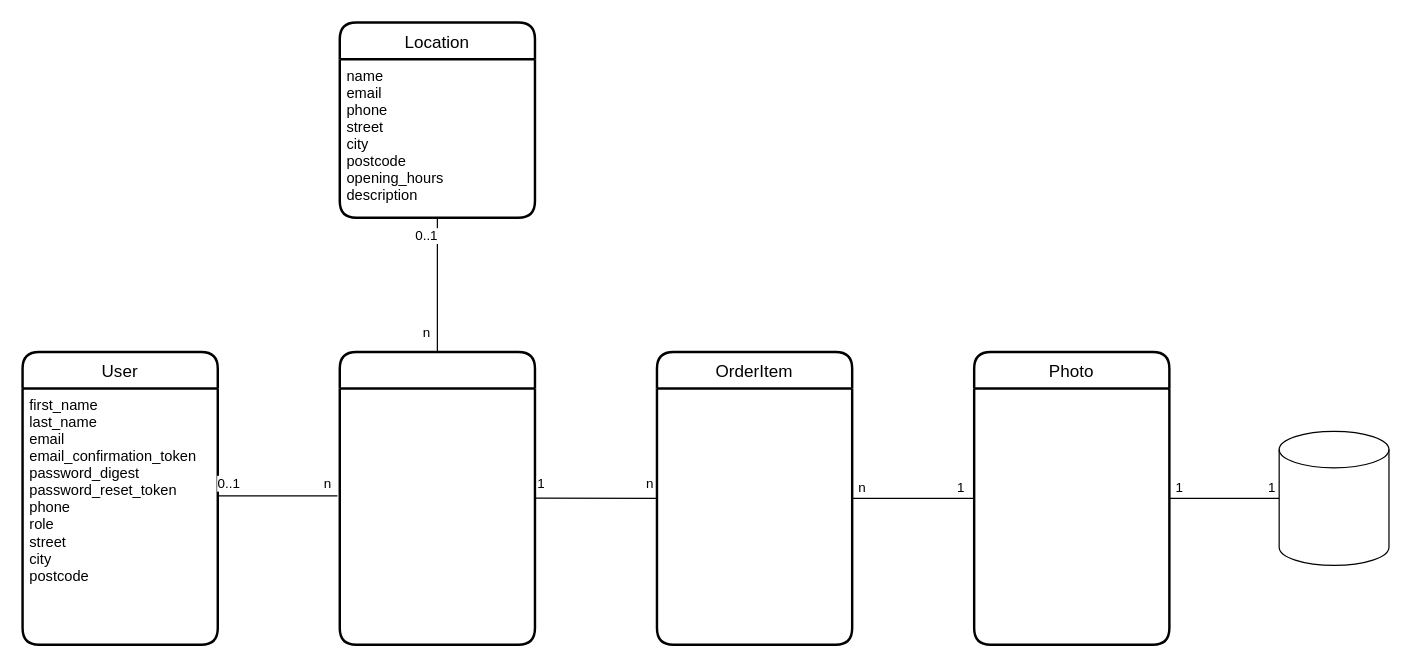
Image size: 1410x666. Some labels were removed from this diagram. The centre of each missing label's shape, as x and y in pixels:
"Active Storage Attachment" belongs at pixel 1333 497.
"Order" belongs at pixel 437 497.
